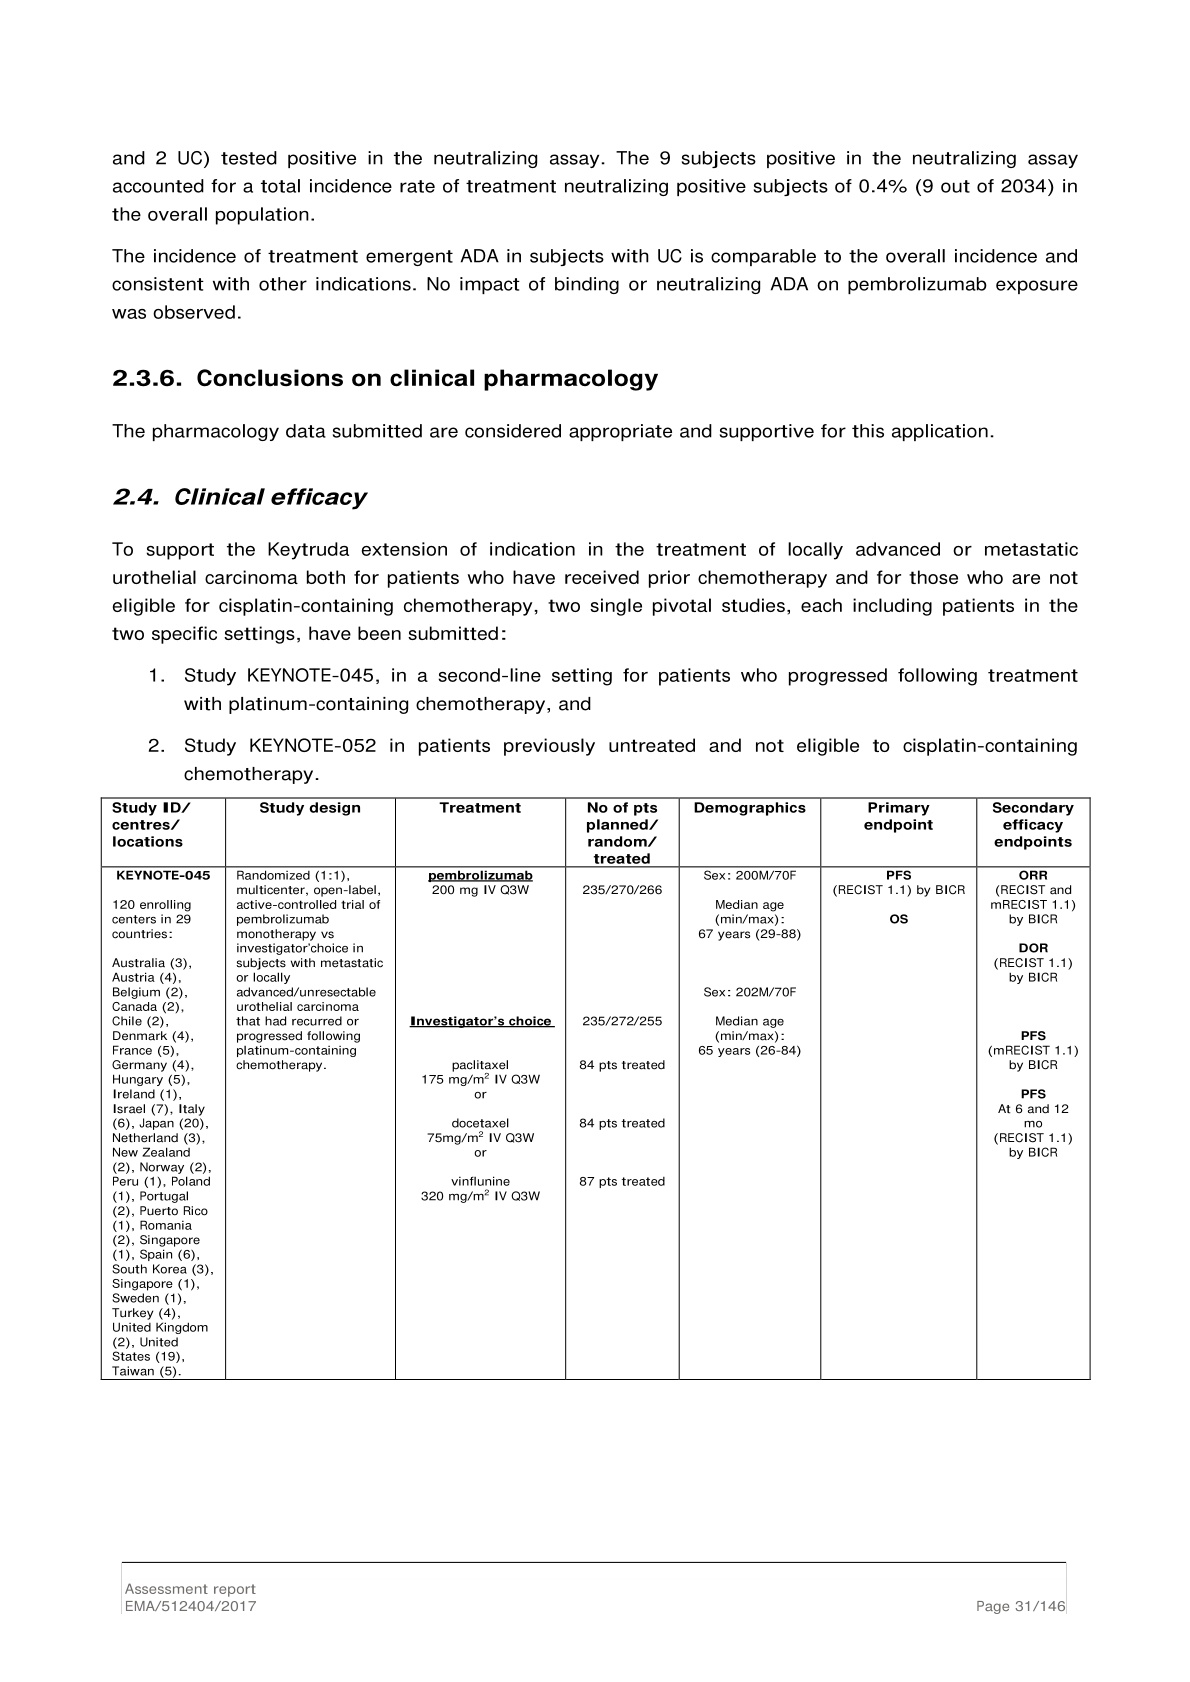full_lined: (100, 795, 1091, 1381)
